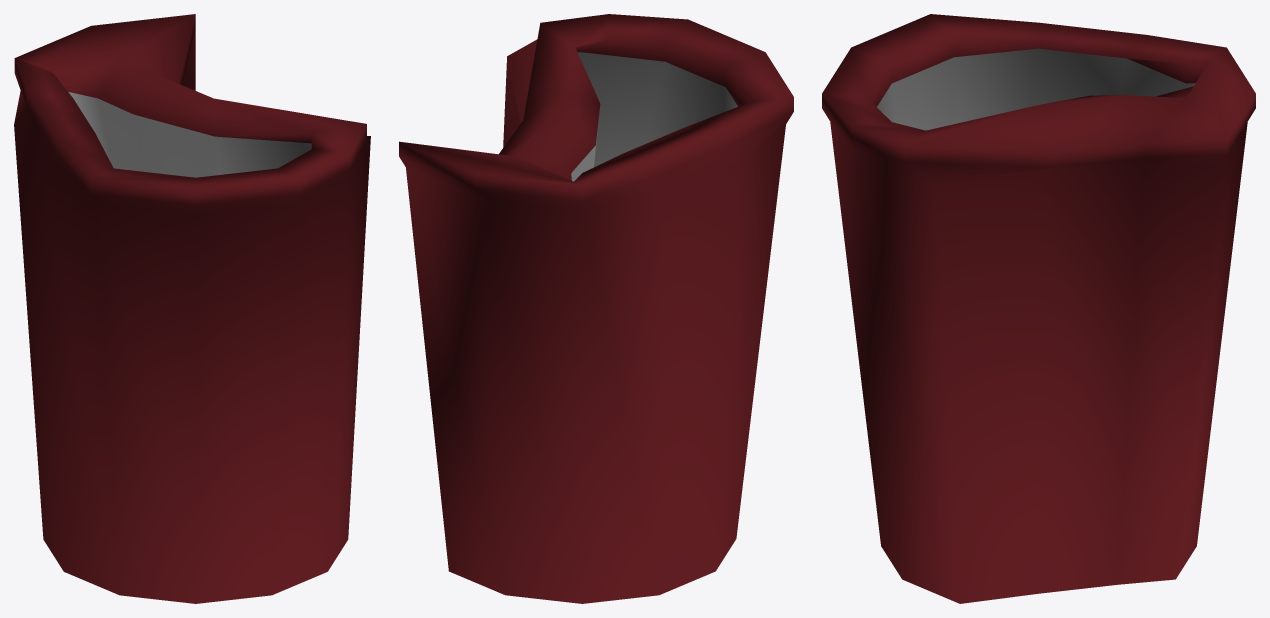
File: Trash_Cup3.fbx
3 views of the same model, side by side, from view 1: azimuth 30°, elevation 25°; view 2: azimuth 150°, elevation 25°; view 3: azimuth 270°, elevation 25° (orthographic). The views are drawn at different scales.
Visible parts, largest first — view 1: Cup; view 2: Cup; view 3: Cup.
Part boxes in pixels (x1,y1,x2,y2): Cup: [14, 14, 370, 603]; Cup: [399, 14, 793, 603]; Cup: [822, 14, 1255, 603].
Bounding box in the file's own units: 96.58 × 143 × 124.
